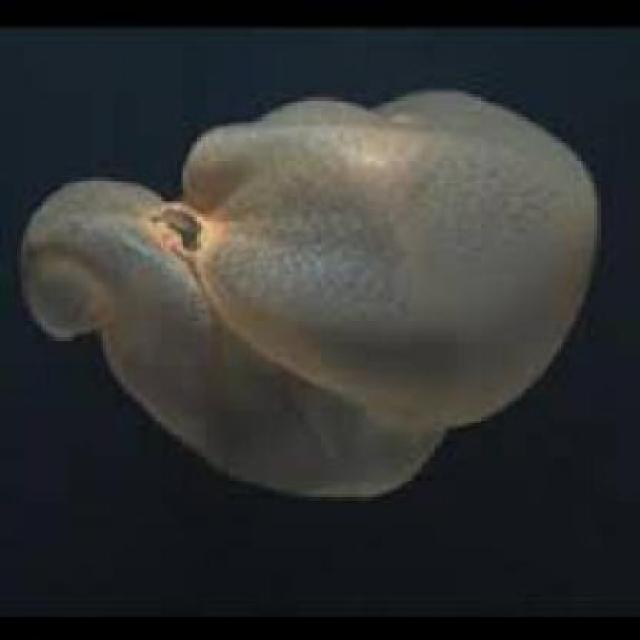Jellyfish: (29, 42, 592, 492)
